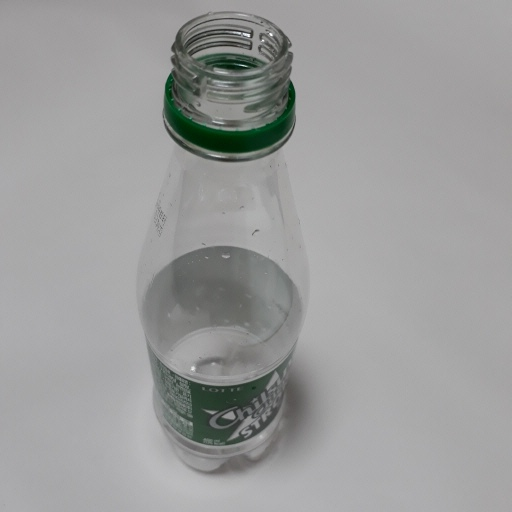Plastic_0: (125, 10, 310, 480)
